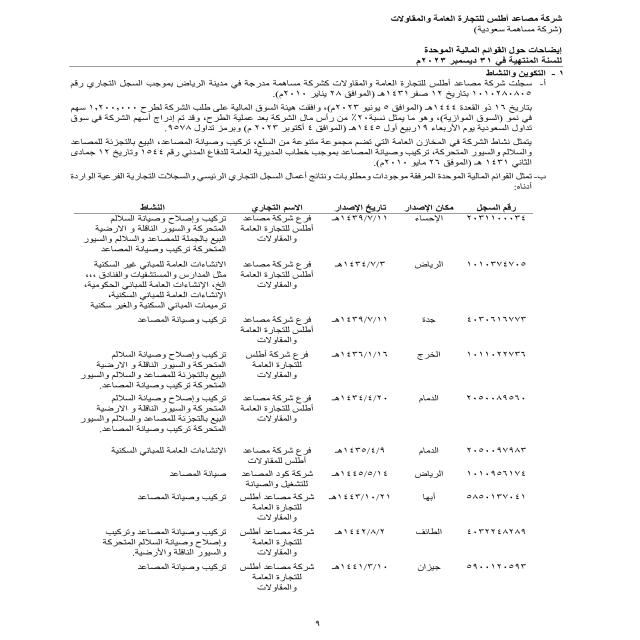notes: (416, 47, 564, 55)
table: (34, 197, 538, 584)
